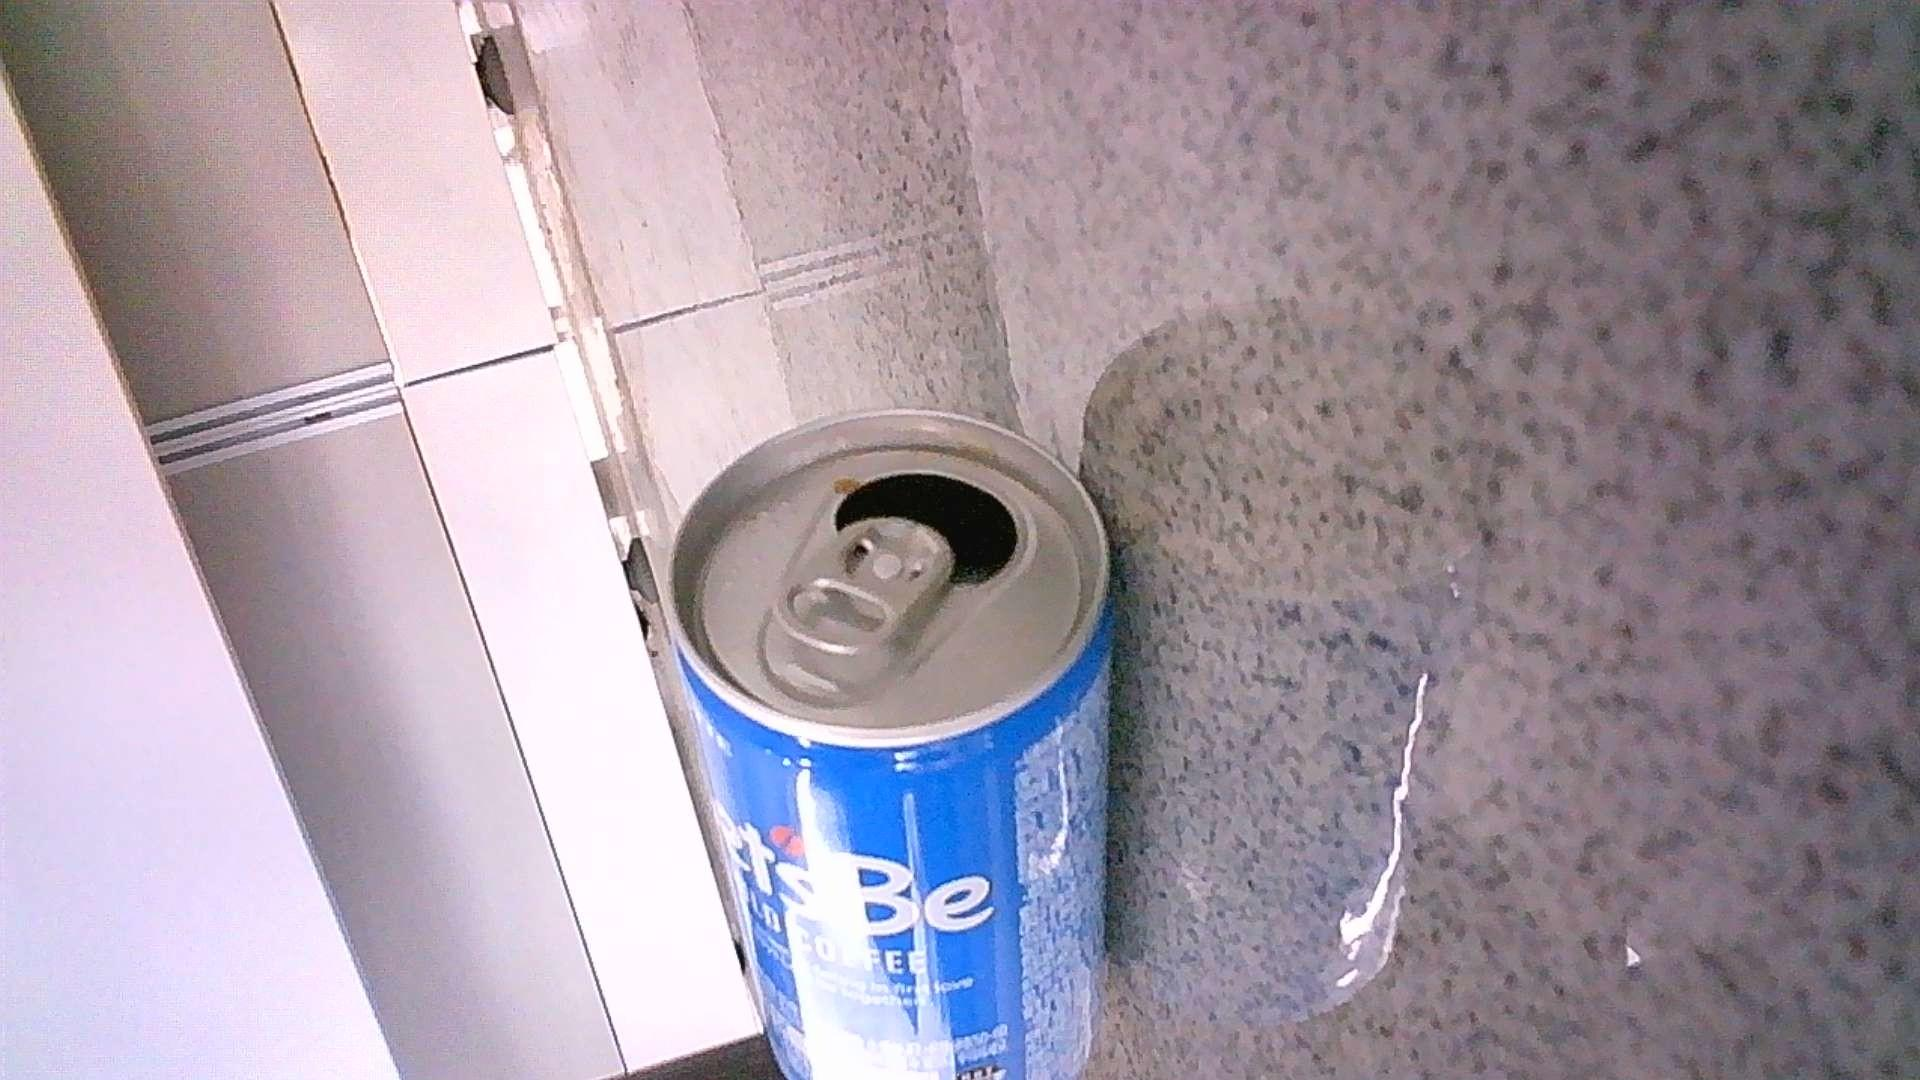letsbe: (665, 405, 1113, 1080)
